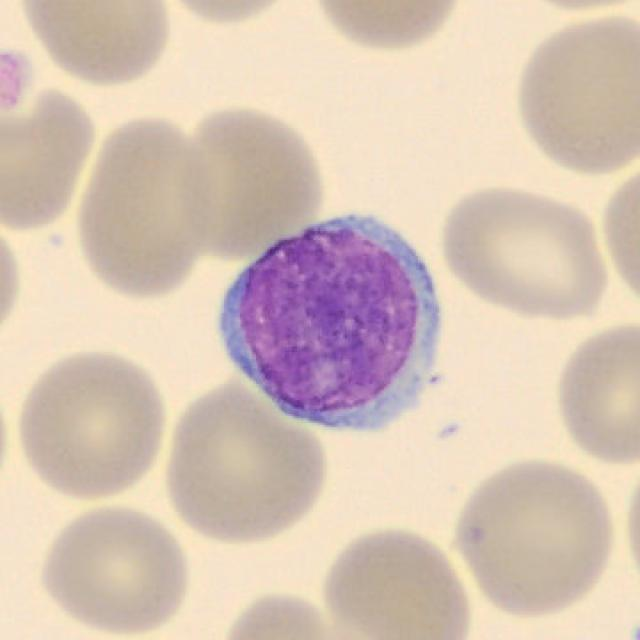Linfocito atipico: (219, 217, 441, 432)
